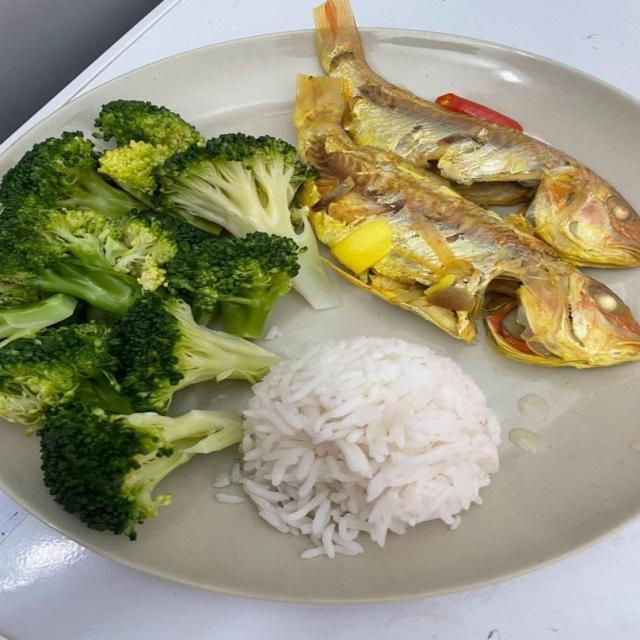Plate: (0, 273, 639, 588)
Rice: (291, 1, 639, 366), (231, 339, 497, 546)
Vegetables: (0, 103, 347, 544)
